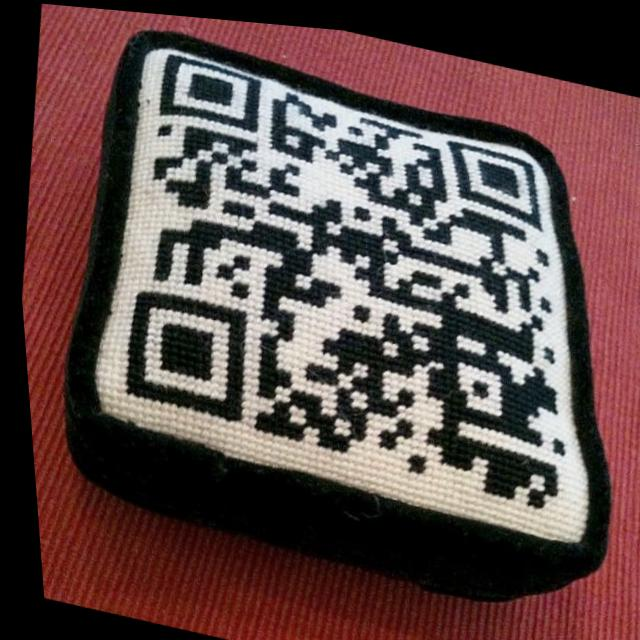qrcode: (99, 45, 610, 506)
